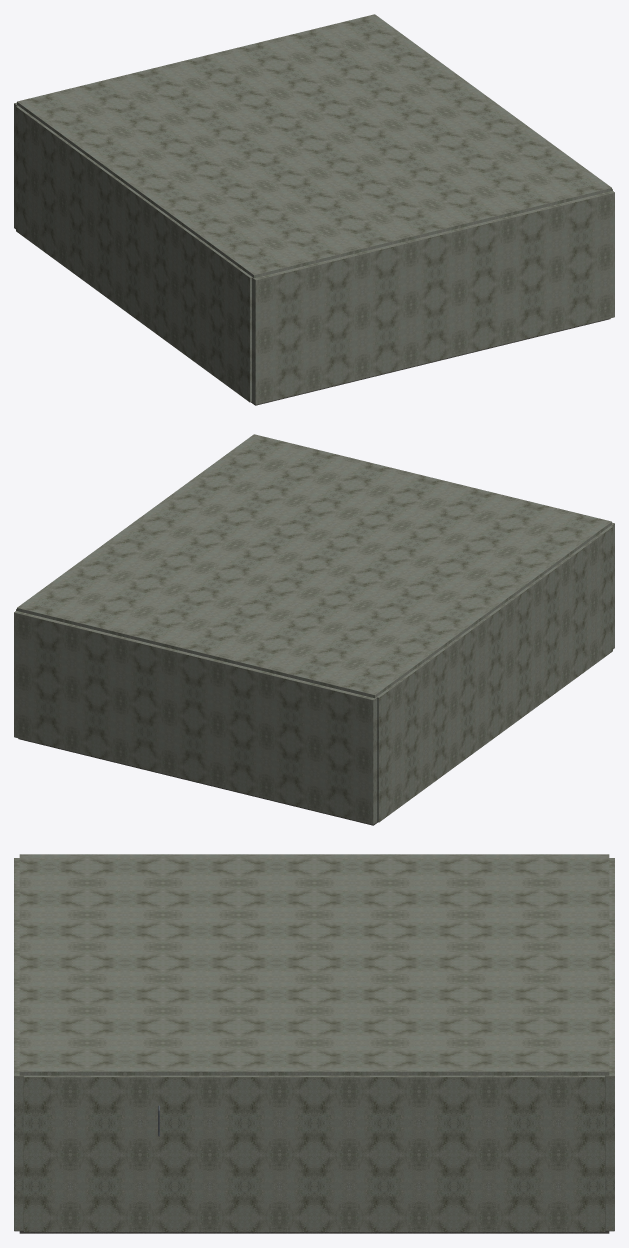
The model's file is case2-teahouse.glb.
3 views of the same model, one above another, from view 1: azimuth 30°, elevation 25°; view 2: azimuth 150°, elevation 25°; view 3: azimuth 270°, elevation 25° (orthographic). The views are drawn at different scales.
Parts seen in each view (by area): view 1: ENV_CEILING_SMOKE_STAINED, ENV_WALL_AGED; view 2: ENV_CEILING_SMOKE_STAINED, ENV_WALL_AGED; view 3: ENV_CEILING_SMOKE_STAINED, ENV_WALL_AGED, ENV_FLOOR_WORN.
Part boxes in pixels (left/top/right/bottom): ENV_CEILING_SMOKE_STAINED: left=17, top=14, right=611, bottom=278; ENV_WALL_AGED: left=14, top=102, right=614, bottom=404; ENV_CEILING_SMOKE_STAINED: left=17, top=434, right=611, bottom=698; ENV_WALL_AGED: left=14, top=522, right=614, bottom=824; ENV_CEILING_SMOKE_STAINED: left=19, top=854, right=609, bottom=1075; ENV_WALL_AGED: left=14, top=858, right=614, bottom=1232; ENV_FLOOR_WORN: left=19, top=1231, right=609, bottom=1233.
Bounding box in the file's own units: 13.37 × 4.51 × 15.08.
26 materials, 9 textured.
